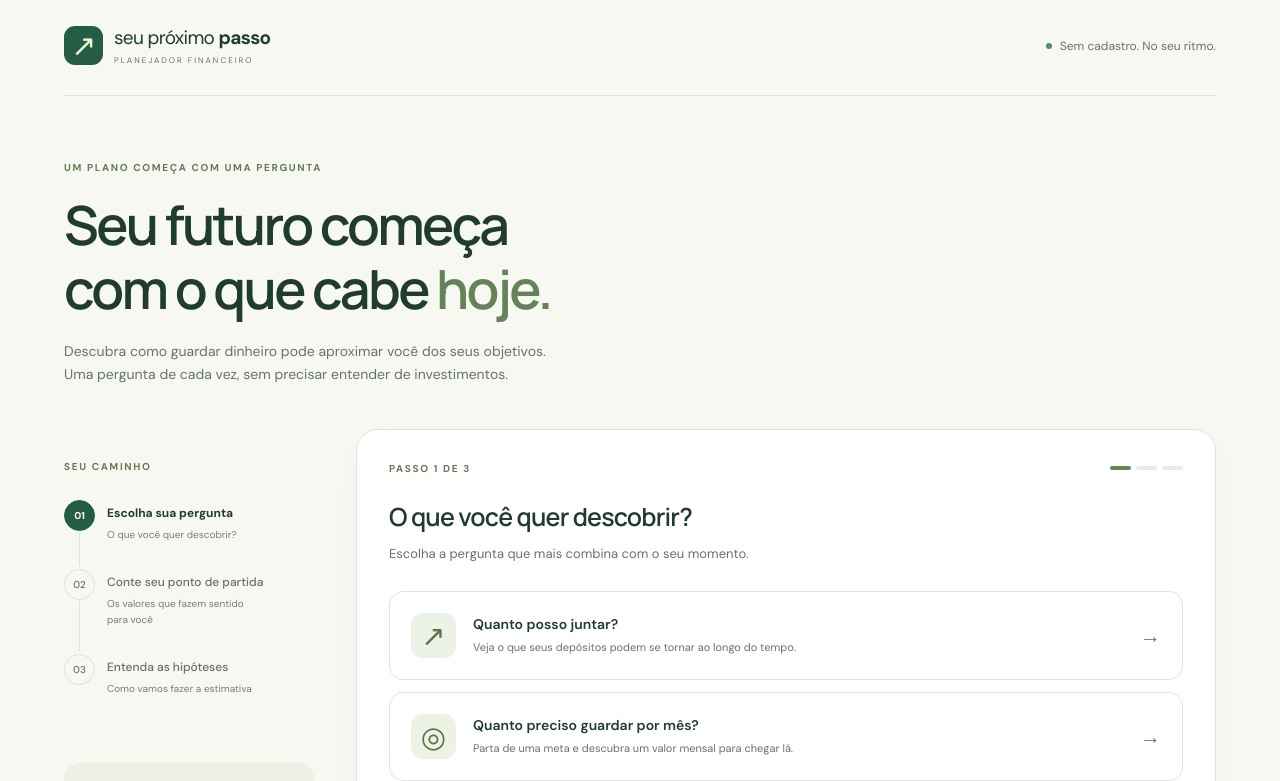
Test case: Planejamento guiado › bloqueia valores inválidos e permite começar do zero
Step 1. Click the button "Quanto posso juntar?" → (434, 636), box [389,591,1183,680]
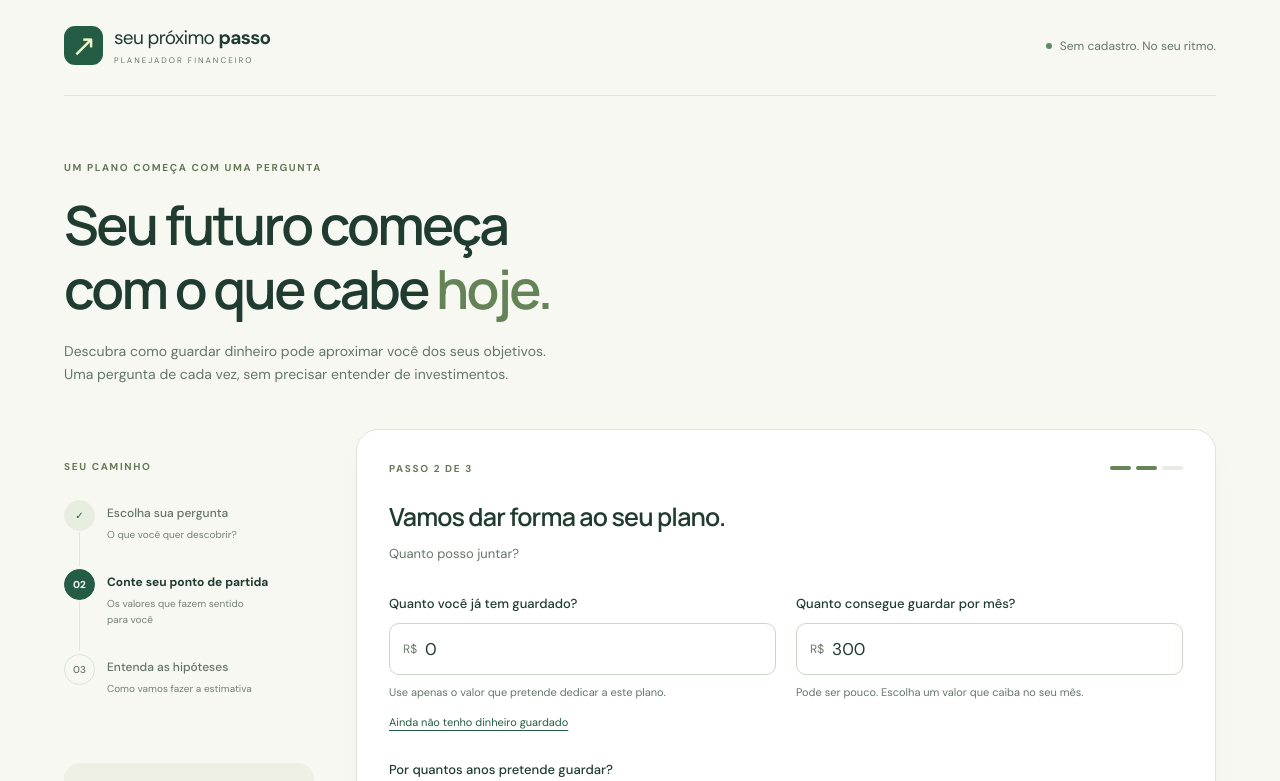
Step 2. Replace the text in the field labelled "Quanto você já tem guardado?" with "texto" → (594, 649), box [425,624,762,674]
(page scrolled)
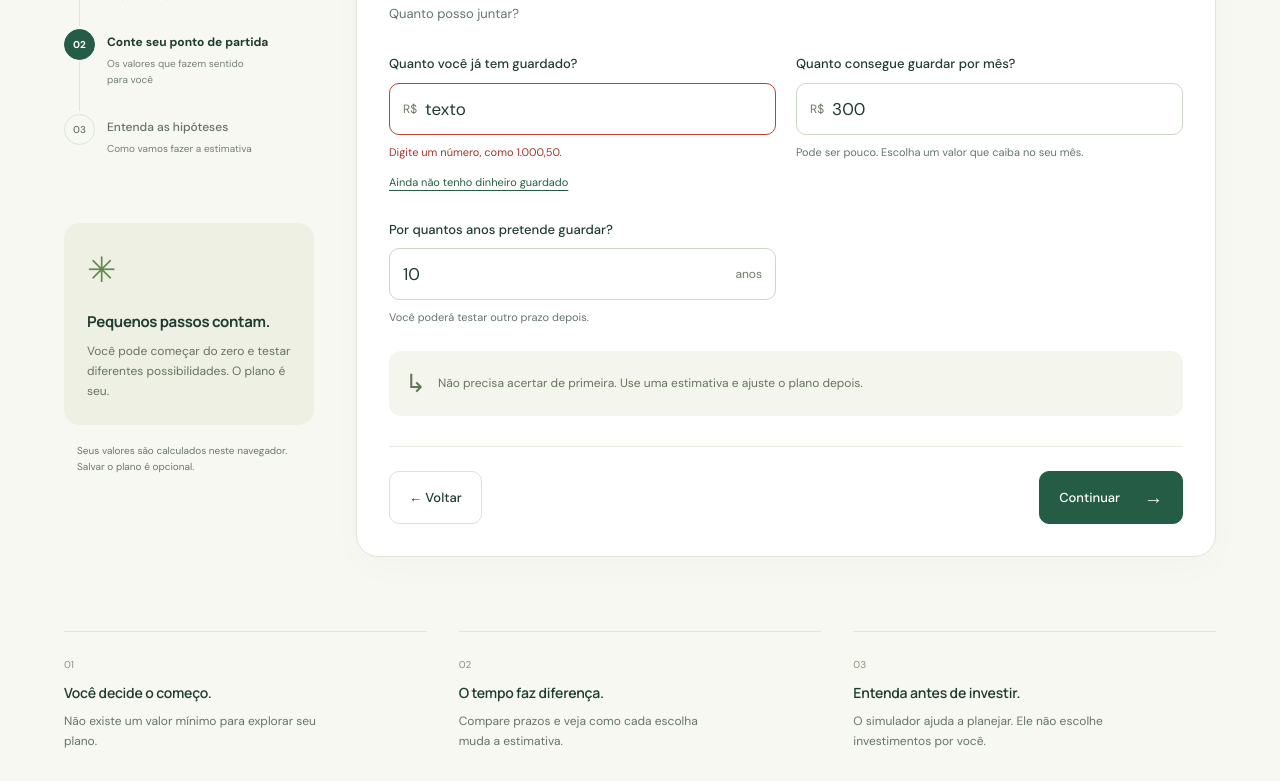
Step 3. Click the button "Continuar →" → (1111, 498), box [1039,471,1183,524]
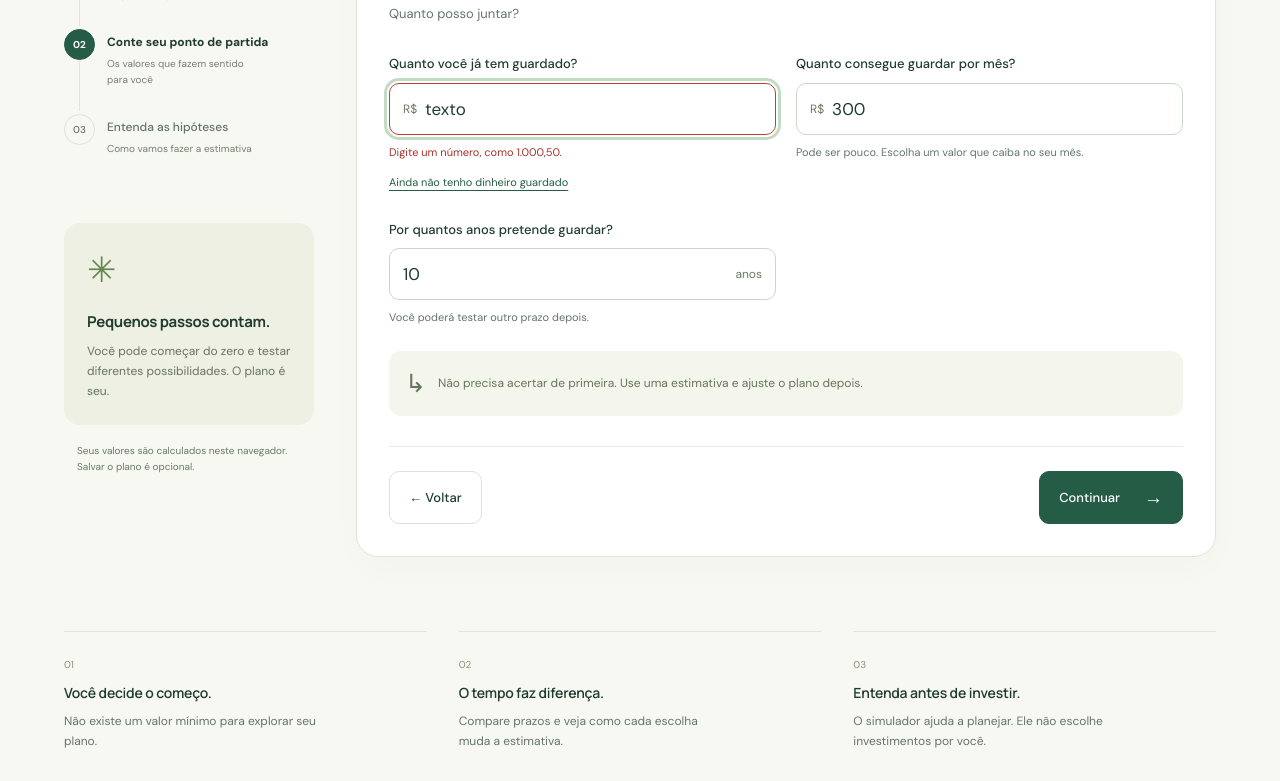
Expected: the field labelled "Quanto você já tem guardado?" is marked as invalid, [425,84,762,134]
Step 4. Click the button "Ainda não tenho dinheiro guardado" → (479, 182), box [389,169,568,195]
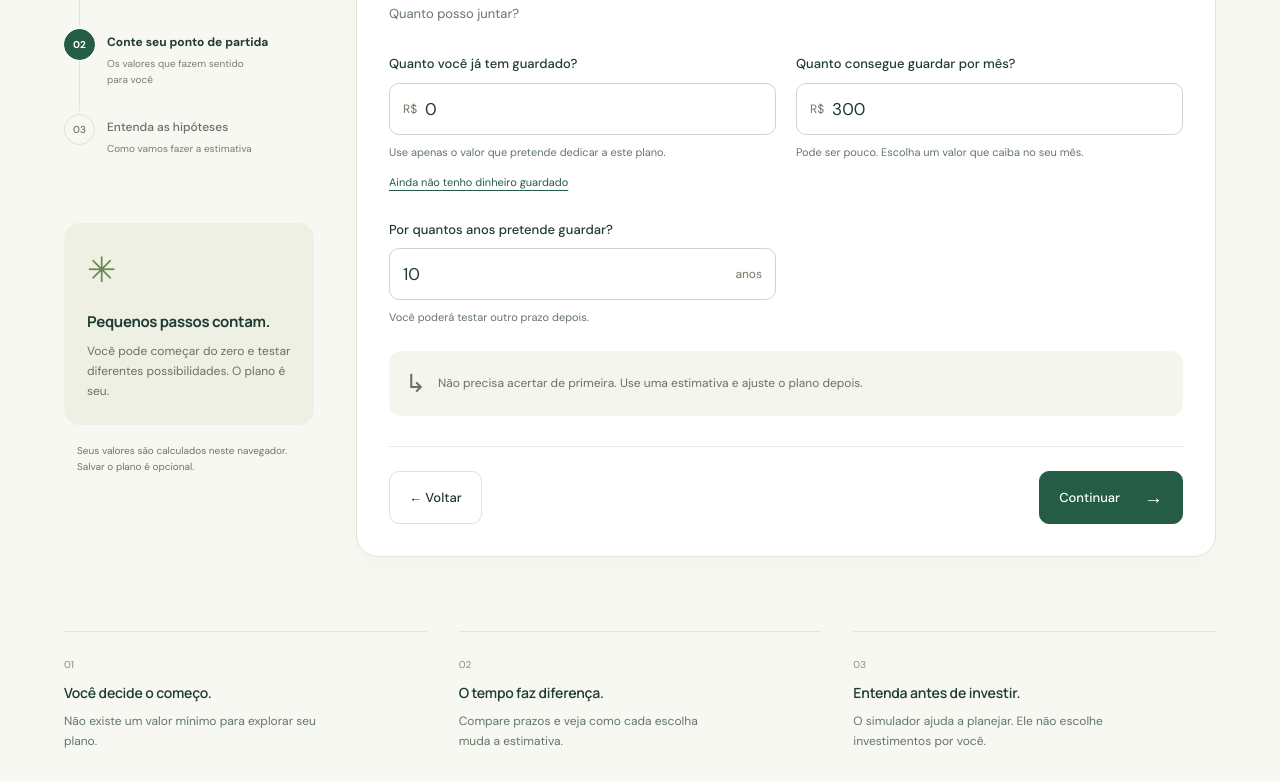
Step 5. Click the button "Continuar →" → (1111, 498), box [1039,471,1183,524]
(page scrolled)
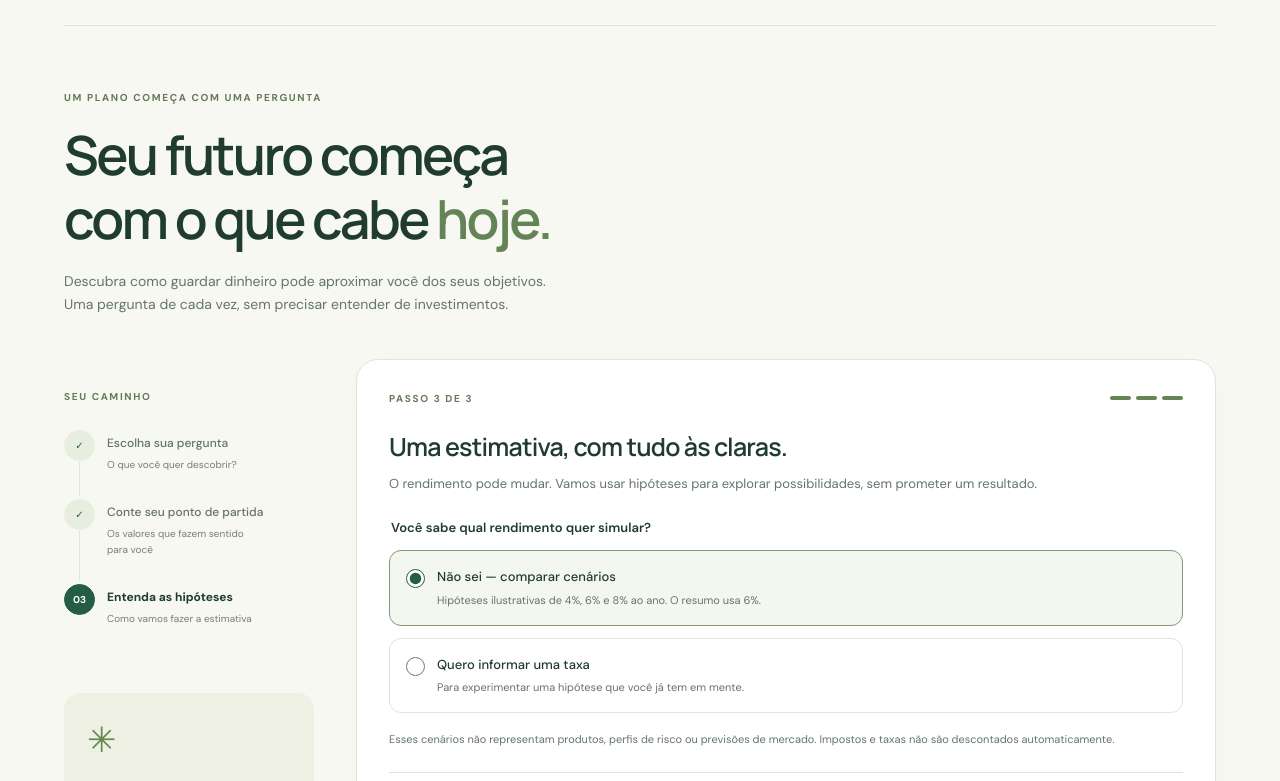
Expected: the heading "Uma estimativa, com tudo às claras." is shown, [389,429,787,464]
